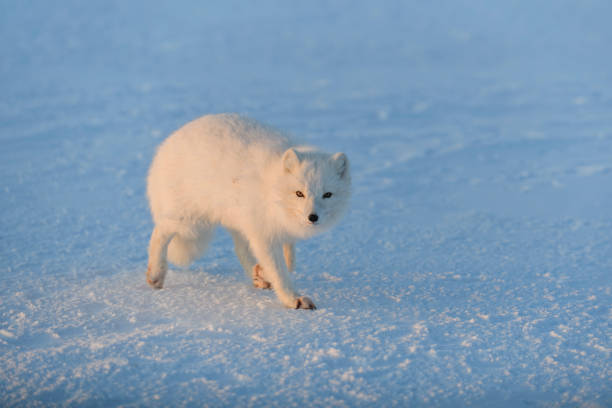arcticfox: (285, 171, 351, 241)
